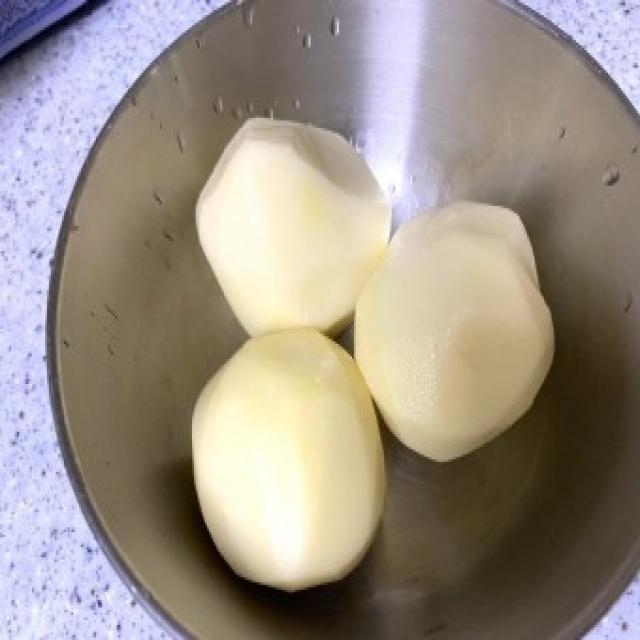potato: (356, 195, 564, 465), (185, 320, 385, 592), (193, 108, 394, 350)
